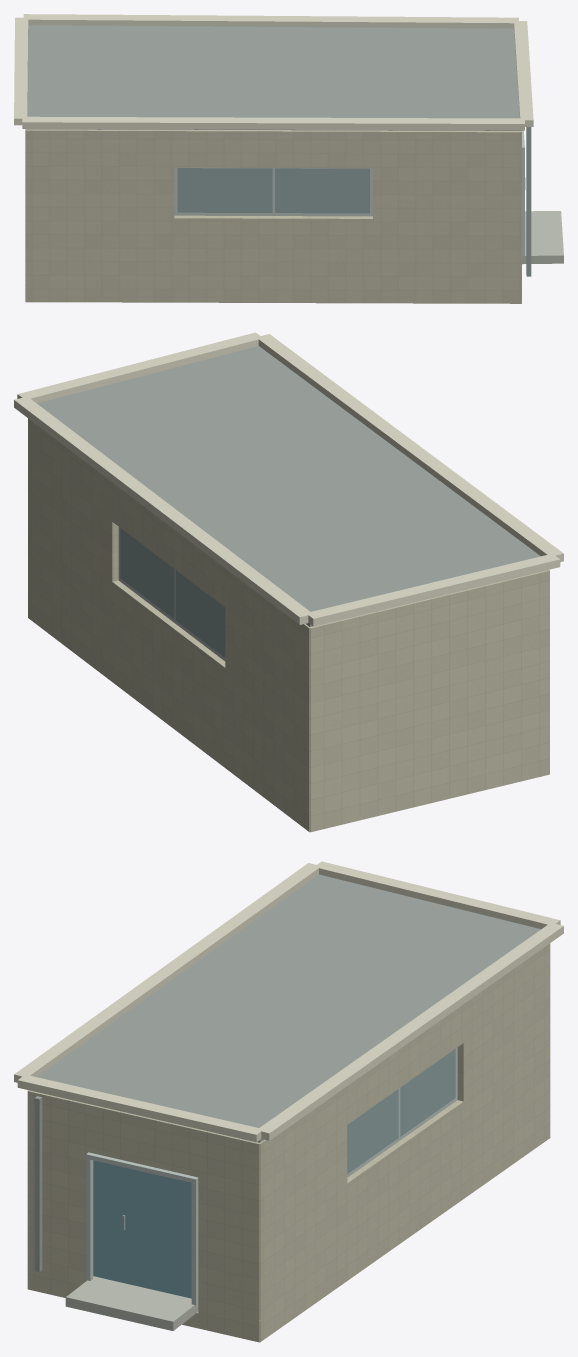
3 views of the same model, one above another, from view 1: azimuth 30°, elevation 25°; view 2: azimuth 150°, elevation 25°; view 3: azimuth 270°, elevation 25° (orthographic). The views are drawn at different scales.
Visible parts, largest first — view 1: eaststore__wall, eaststore__roof, eaststore__trim, eaststore__glass, eaststore__threshold-entry, eaststore__frame, eaststore__metal; view 2: eaststore__wall, eaststore__roof, eaststore__trim, eaststore__glass, eaststore__frame; view 3: eaststore__wall, eaststore__roof, eaststore__trim, eaststore__door, eaststore__glass, eaststore__threshold-entry, eaststore__frame, eaststore__metal.
Part boxes in pixels (<box>): eaststore__wall: <box>25,129,521,303</box>; eaststore__roof: <box>25,25,521,130</box>; eaststore__trim: <box>14,14,533,130</box>; eaststore__glass: <box>177,168,369,213</box>; eaststore__threshold-entry: <box>522,211,563,264</box>; eaststore__frame: <box>174,130,524,256</box>; eaststore__metal: <box>525,127,531,276</box>; eaststore__wall: <box>28,418,549,831</box>; eaststore__roof: <box>37,346,540,626</box>; eaststore__trim: <box>14,332,563,626</box>; eaststore__glass: <box>120,528,225,657</box>; eaststore__frame: <box>118,527,225,661</box>; eaststore__wall: <box>27,943,550,1342</box>; eaststore__roof: <box>37,874,540,1142</box>; eaststore__trim: <box>14,861,563,1142</box>; eaststore__door: <box>93,1160,191,1298</box>; eaststore__glass: <box>347,1049,455,1173</box>; eaststore__threshold-entry: <box>65,1276,198,1330</box>; eaststore__frame: <box>86,1047,457,1305</box>; eaststore__metal: <box>34,1096,125,1272</box>.
Bounding box in the file's own units: 9.32 × 3.39 × 7.92.
Materials: 9 (1 with a texture image).
